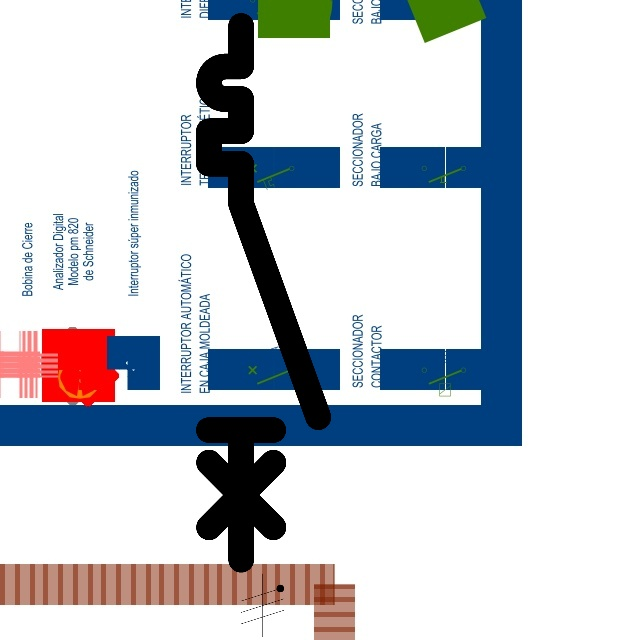interruptor_termomagnetico: (195, 12, 332, 574)
